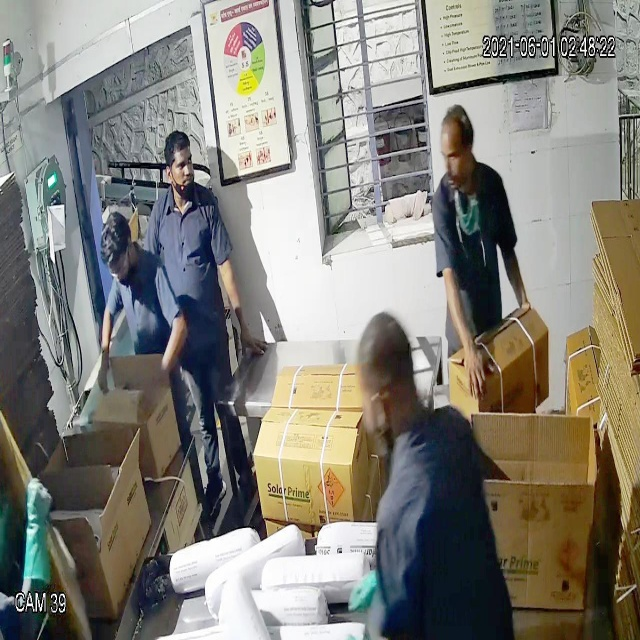Gafas: (99, 252, 136, 283)
Sin_gafas: (431, 138, 477, 174), (160, 147, 202, 177)
